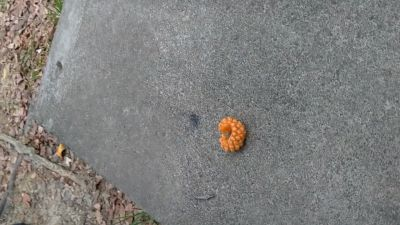eggs: (216, 115, 249, 152)
